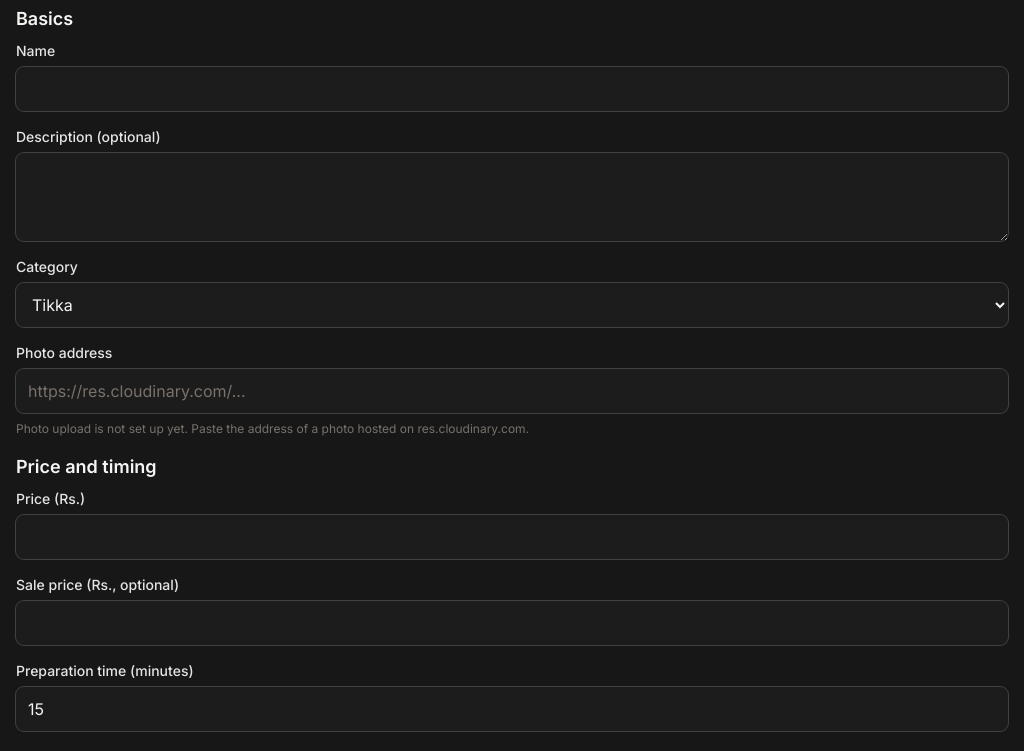
Test case: ProductForm › refuses a sale price that is not lower than the normal price
In the field labelled "Name": {"x": 512, "y": 89} [16,67,1008,111], type "Dish"
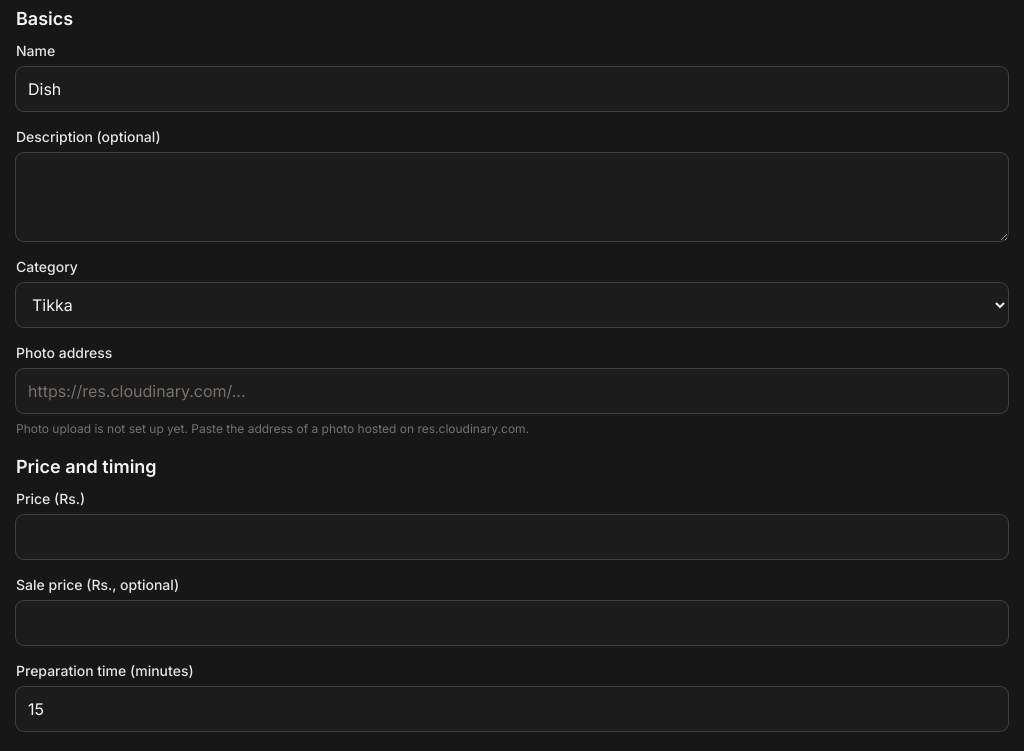
In the number field labelled "Price (Rs.)": {"x": 512, "y": 537} [16,515,1008,559], type "100"
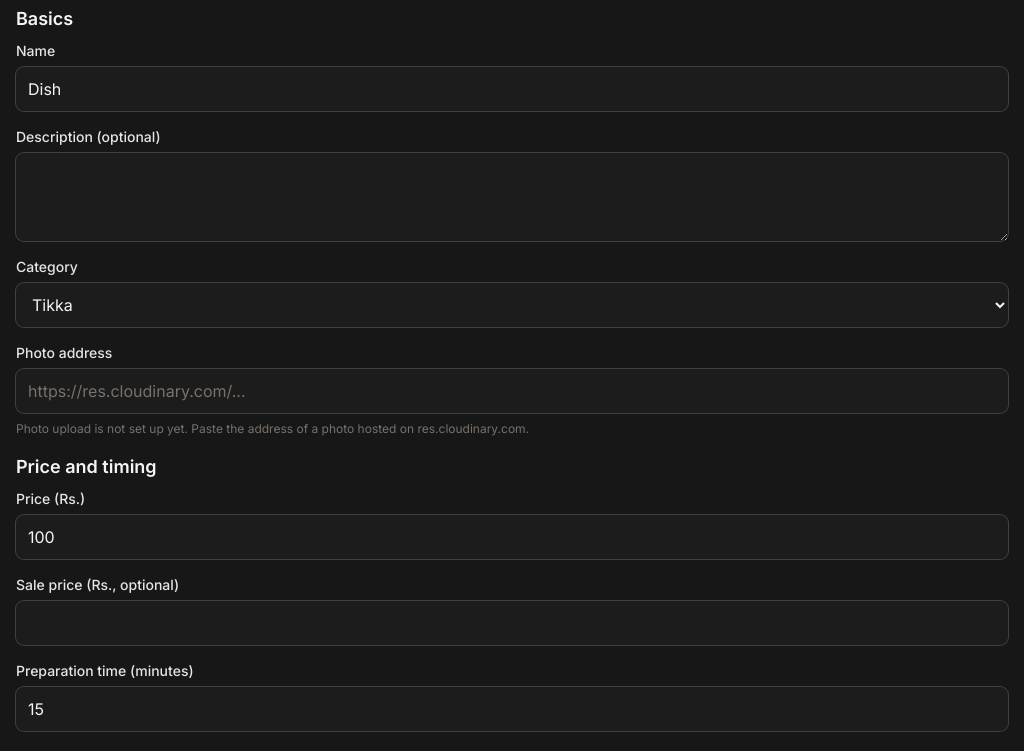
In the number field labelled "Sale price (Rs., optional)": {"x": 512, "y": 623} [16,601,1008,645], type "100"
(page scrolled)
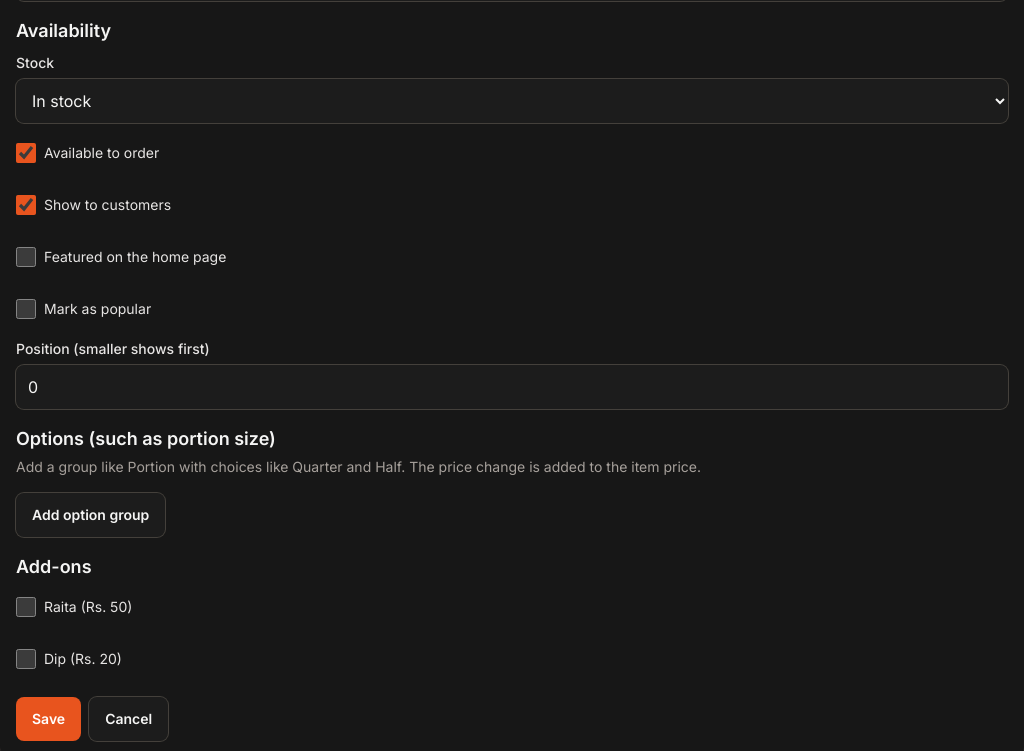
Click the button "Save": {"x": 49, "y": 719} [16,697,81,741]
(page scrolled)
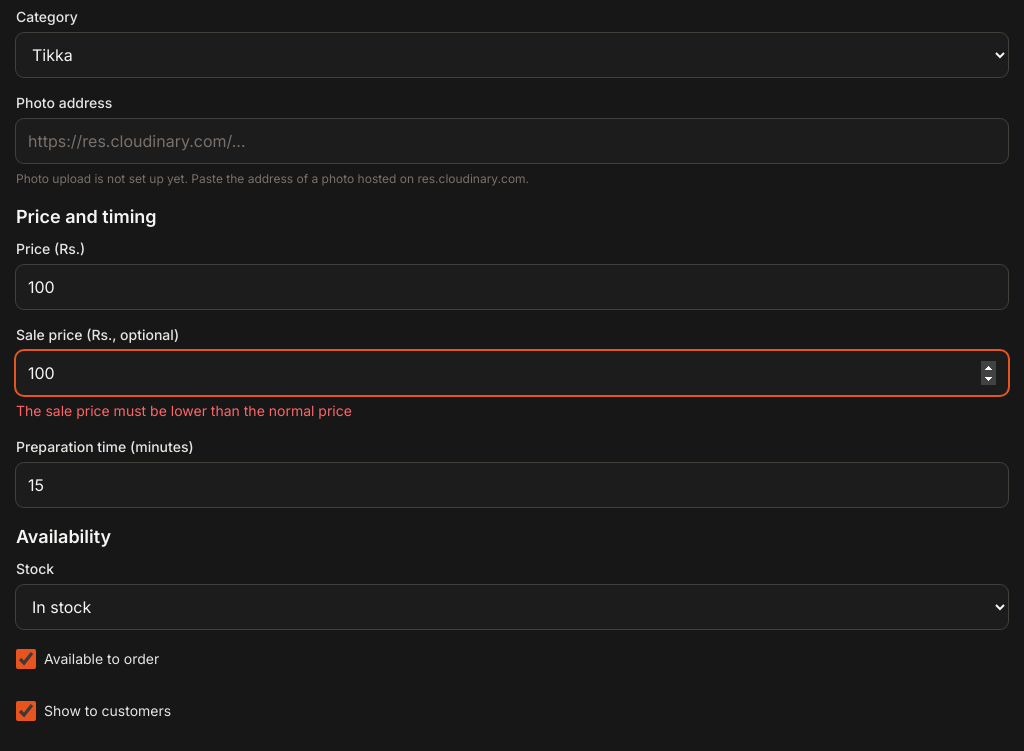
Check: the text "The sale price must be lower than the normal price" is shown, box [16,402,352,419]
